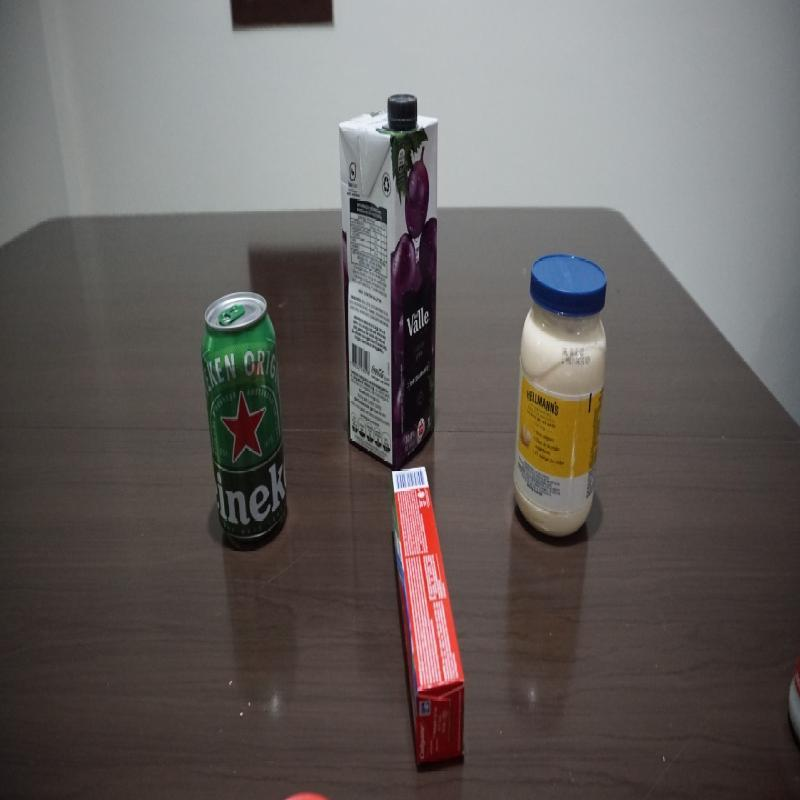Beer can: (204, 287, 292, 546)
Mayonnaise: (507, 254, 613, 544)
Toothpaste: (389, 467, 468, 775)
